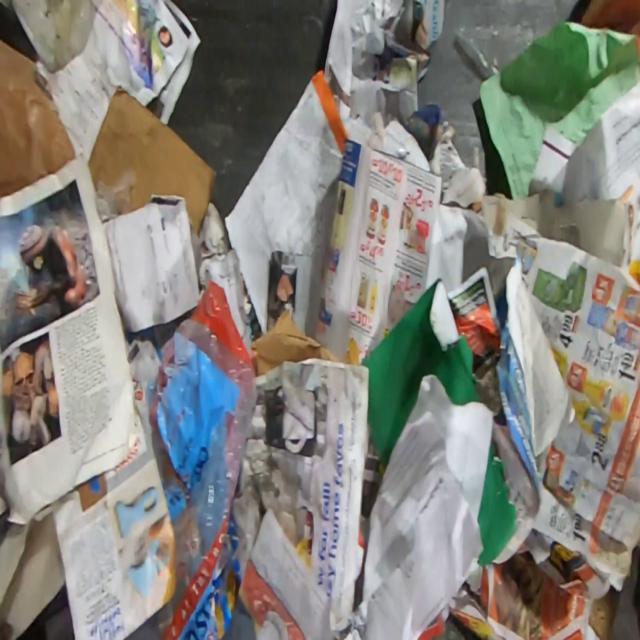cardboard: (358, 275, 485, 470), (87, 88, 218, 239), (250, 306, 345, 376), (477, 436, 519, 568)
soft_plastic: (130, 276, 260, 640), (0, 35, 78, 200), (451, 22, 535, 82)
